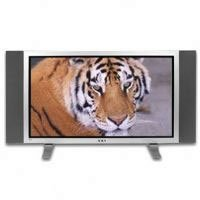Tigre: (35, 60, 162, 133)
